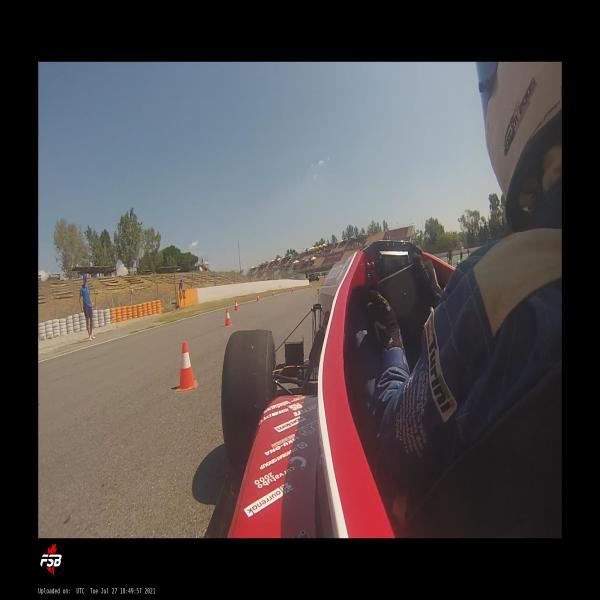orange_cone: (177, 342, 197, 392), (225, 309, 232, 327), (235, 300, 238, 310), (258, 294, 260, 301), (272, 290, 274, 296), (292, 286, 294, 292)
yellow_cone: (317, 287, 319, 294), (284, 287, 286, 291)
